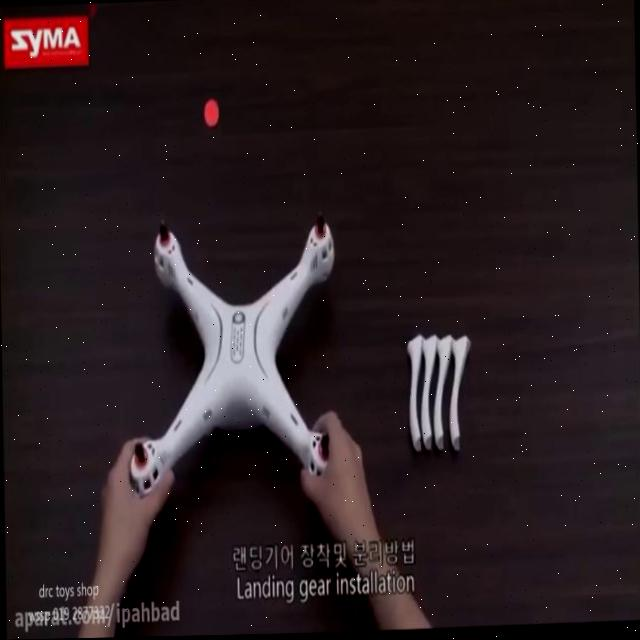drone: (118, 204, 344, 498)
